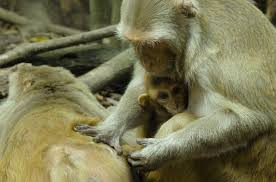monkey: (34, 3, 251, 167)
